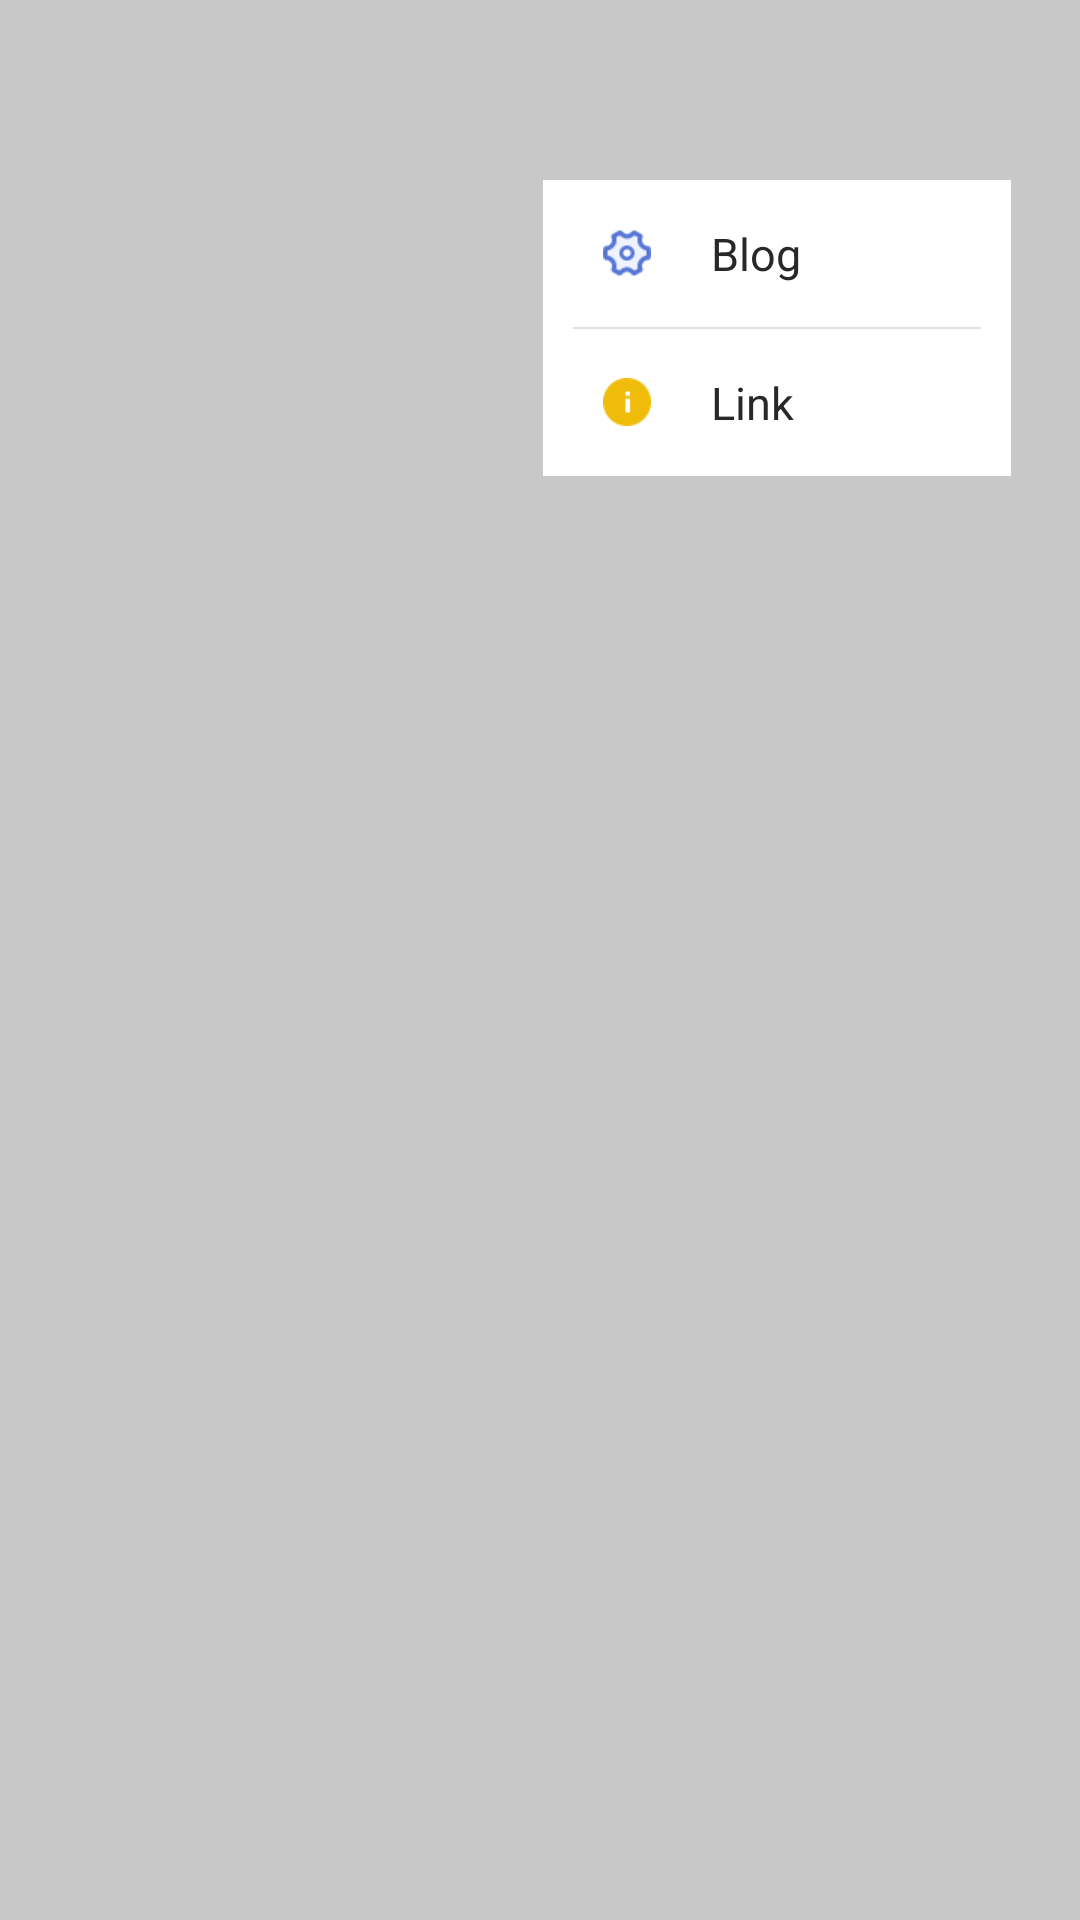

Icons on this 1080x1920 Android screen, each with its box as (x1, y1, x2, y2):
about: (603, 378, 651, 426)
setting: (603, 230, 651, 276)
